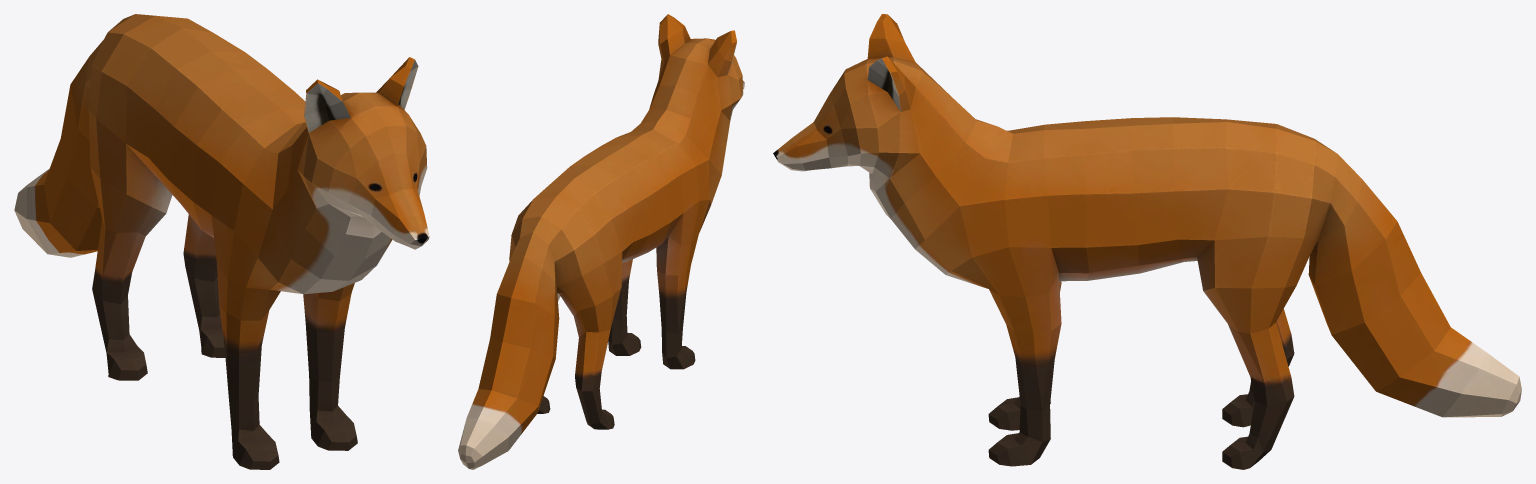
The model's file is 10u8FYPC5Br.glb.
The picture shows the model from 3 angles, left to right: view 1: azimuth 30°, elevation 25°; view 2: azimuth 150°, elevation 25°; view 3: azimuth 270°, elevation 25°; orthographic projection. The views are drawn at different scales.
Parts seen in each view (by area): view 1: Fox_Mesh; view 2: Fox_Mesh; view 3: Fox_Mesh.
Part boxes in pixels (x1,y1,x2,y2): Fox_Mesh: (14,14,429,469); Fox_Mesh: (458,14,744,469); Fox_Mesh: (773,14,1521,469).
Bounding box in the file's own units: 0.3344 × 0.9999 × 1.68.
1 material, 1 textured.
